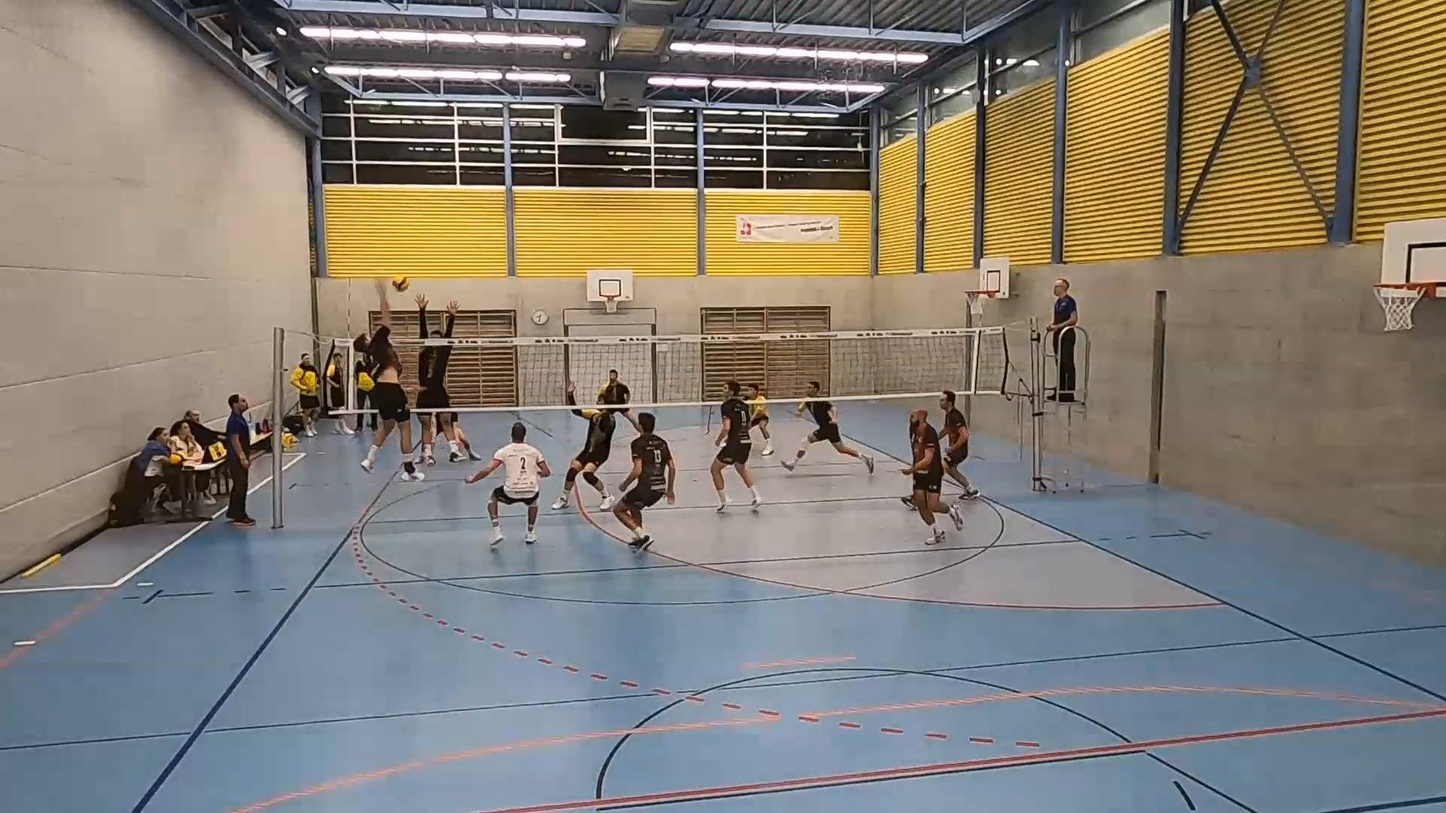attacco: (347, 269, 416, 483)
muro: (405, 287, 466, 472)
